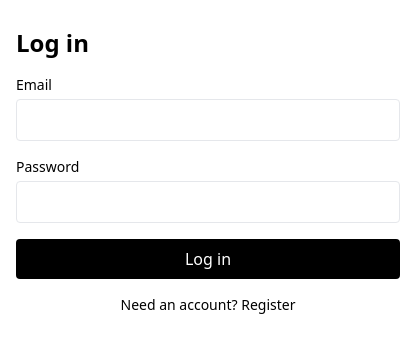
LoginPage › shows an error message on invalid credentials
In the field labelled "Email": (208, 120) left=16, top=99, right=400, bottom=141, type "wrong@example.com"
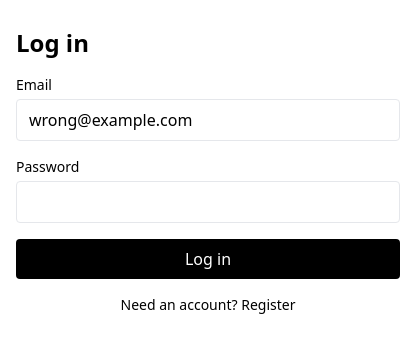
In the password field labelled "Password": (208, 202) left=16, top=181, right=400, bottom=223, type "bad"
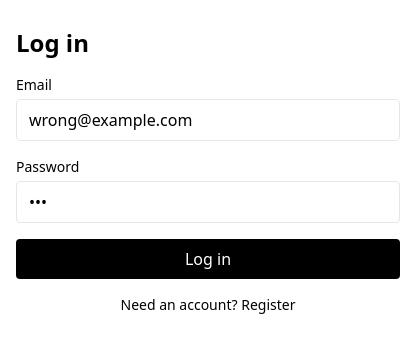
Click the button "Log in": (208, 259) left=16, top=239, right=400, bottom=279
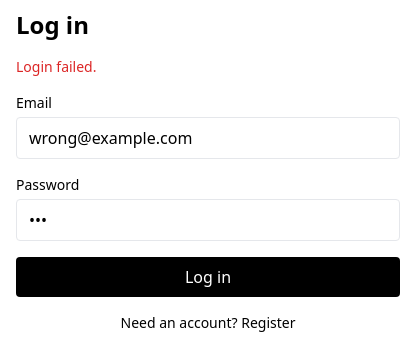
Result: the message "Login failed." is shown at left=16, top=57, right=96, bottom=76
